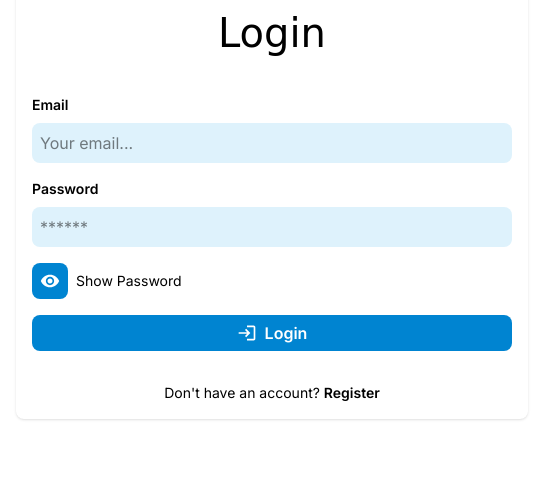
Scenario: Login page › shows an error message when user leaves the Email field empty
Click the button with test id "login-button": (272, 333) [32, 315, 512, 351]
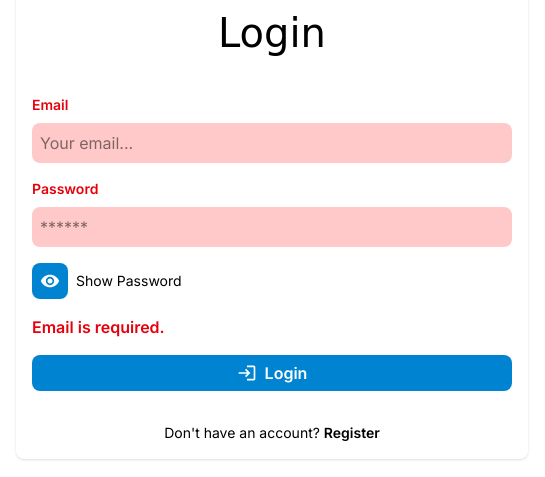
Check: the text "Email is required." is shown, box [32, 317, 165, 337]
